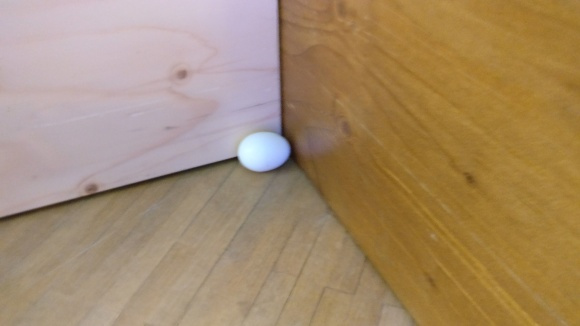egg: (238, 131, 291, 172)
